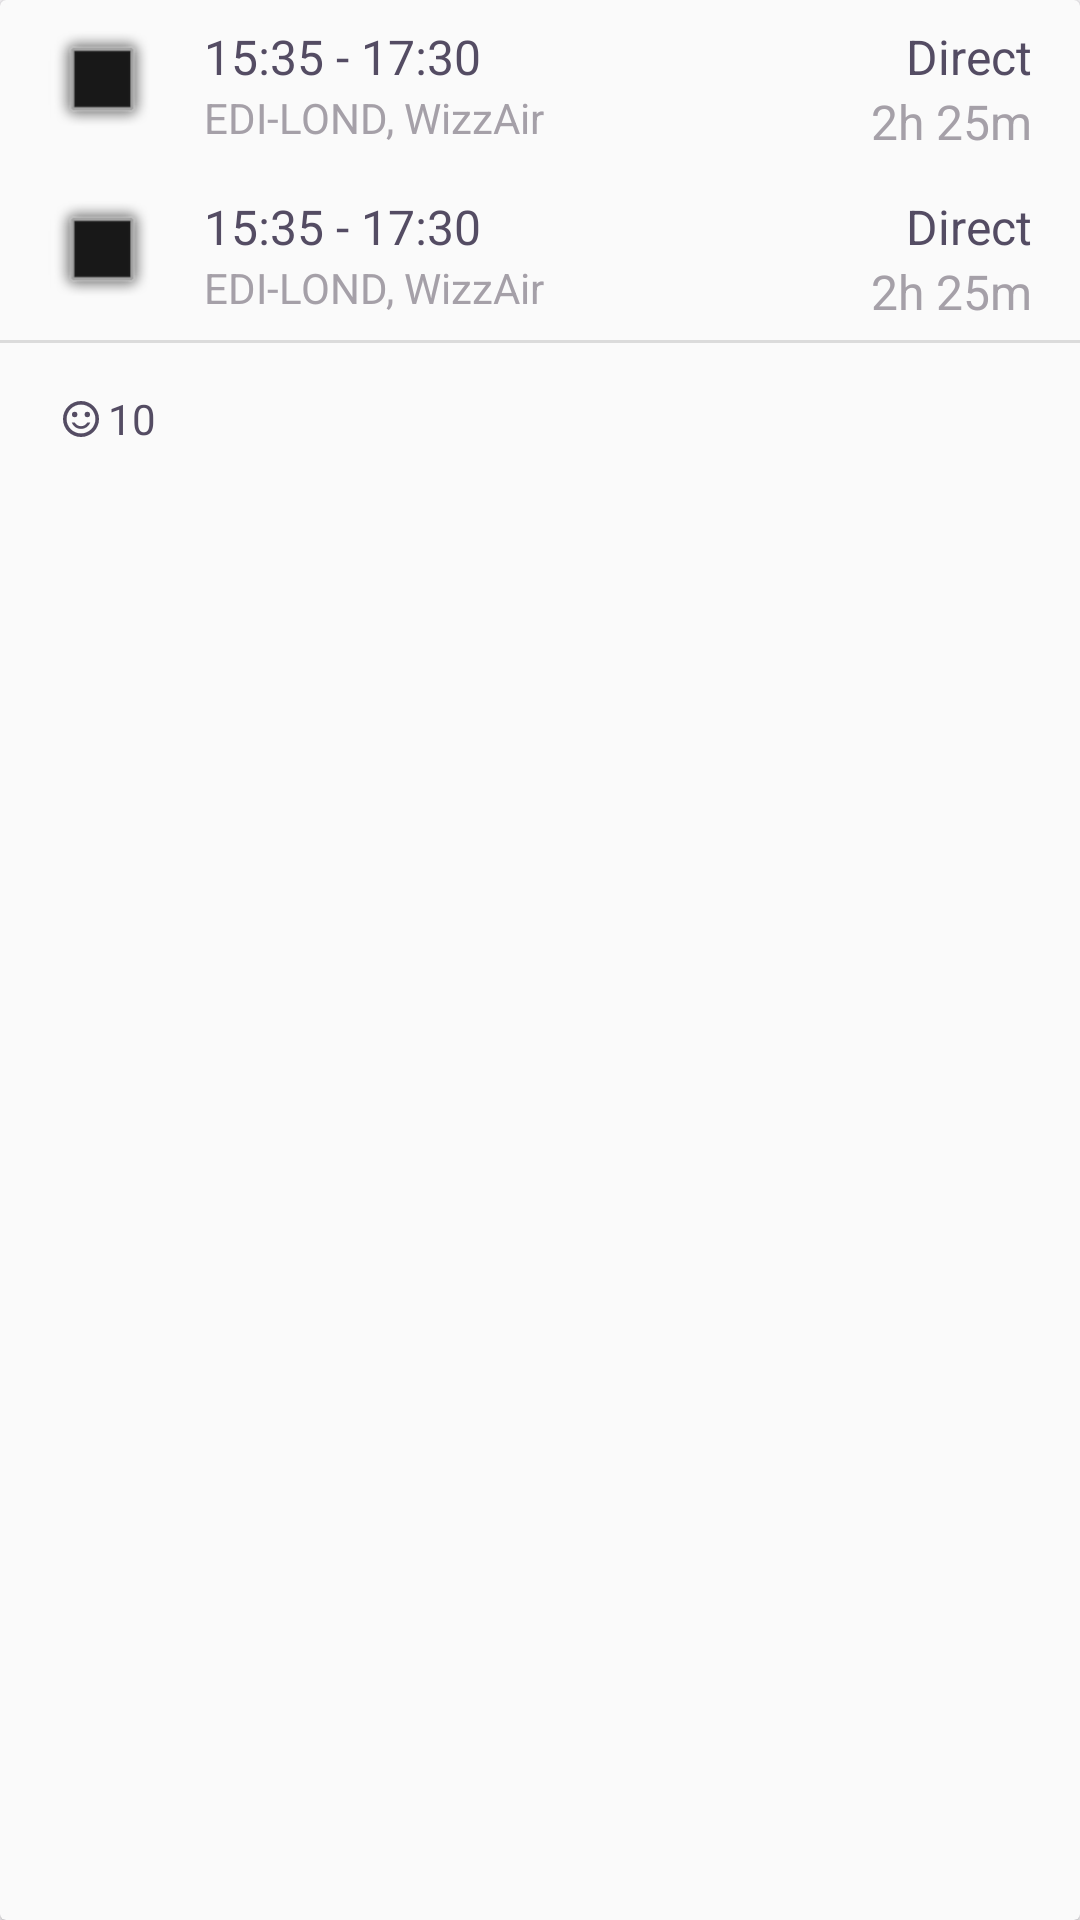

Named icons in this screenshot (1080*1920) and their centers, (x,y):
rating satisfied: (81,419)
